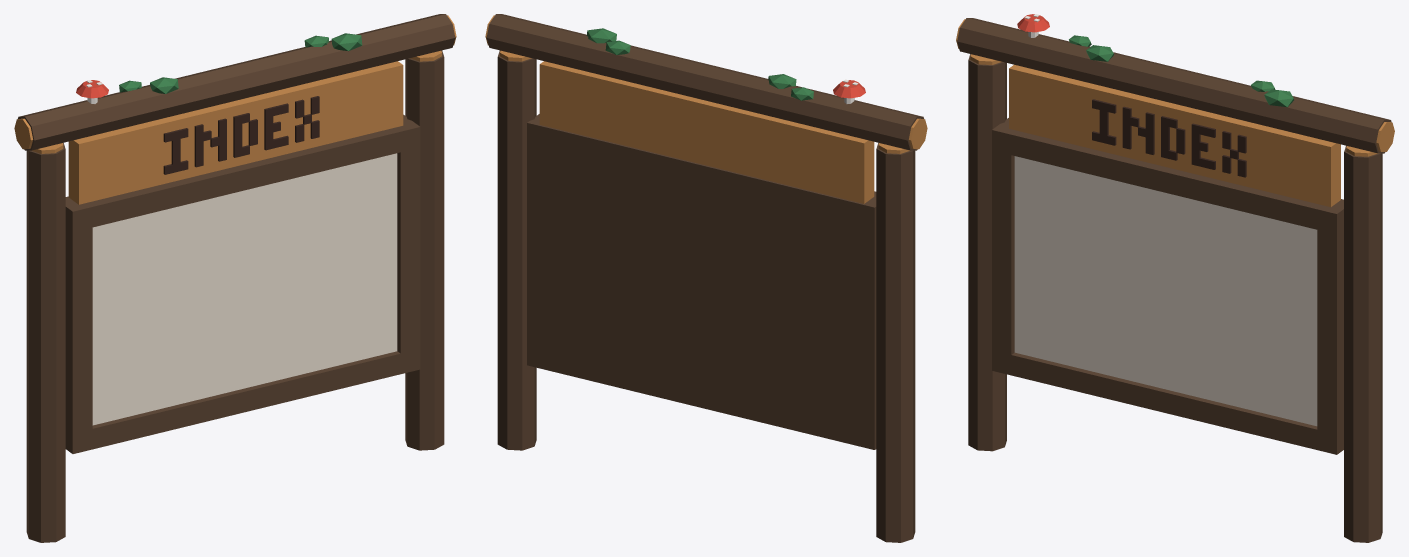
The model's file is CatCafe_Woods_IndexBoard.glb.
3 renders of one model, left to right at view 1: azimuth 30°, elevation 25°; view 2: azimuth 150°, elevation 25°; view 3: azimuth 330°, elevation 25°, orthographic.
Visible parts, largest first — view 1: CatCafe_Woods_IndexBoard, CatCafe_Woods_IndexBoard_Screen; view 2: CatCafe_Woods_IndexBoard; view 3: CatCafe_Woods_IndexBoard, CatCafe_Woods_IndexBoard_Screen.
Boxes of the visible parts, x1,y1,x2,y2 form: CatCafe_Woods_IndexBoard: (14,14,456,542); CatCafe_Woods_IndexBoard_Screen: (92,153,397,425); CatCafe_Woods_IndexBoard: (485,14,927,542); CatCafe_Woods_IndexBoard: (956,14,1394,542); CatCafe_Woods_IndexBoard_Screen: (1014,156,1317,426).
Size of the model in its own units: 11.02 by 10.89 by 0.95.
Materials: 1 (1 with a texture image).
